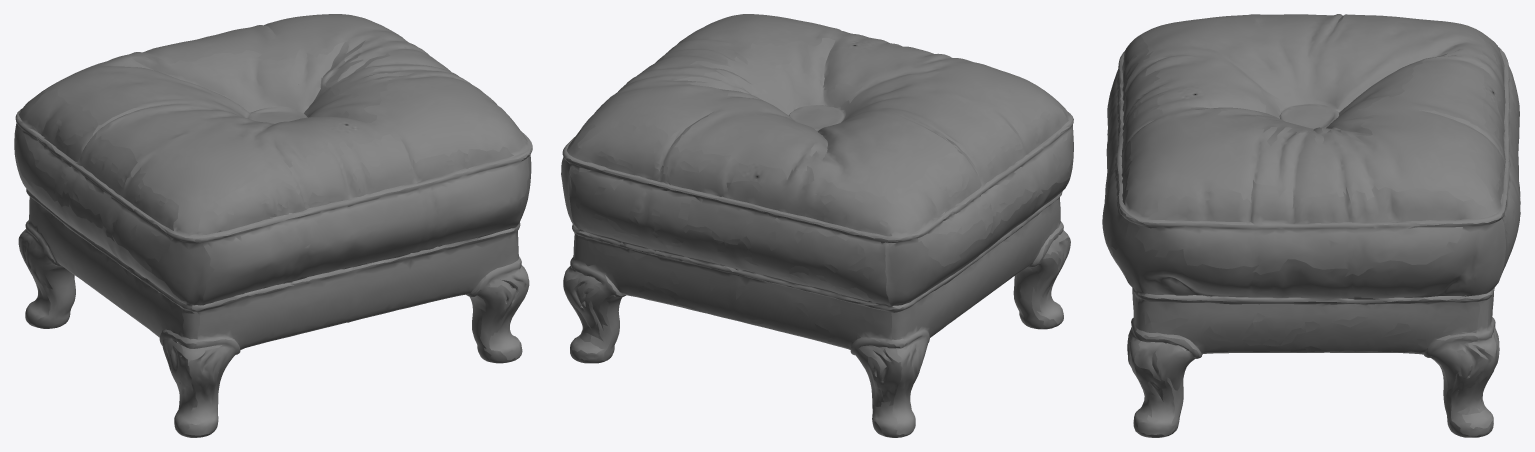
Rendered from completion_ottoman_0.glb.
The picture shows the model from 3 angles, left to right: view 1: azimuth 30°, elevation 25°; view 2: azimuth 150°, elevation 25°; view 3: azimuth 270°, elevation 25°; orthographic projection. The views are drawn at different scales.
Parts seen in each view (by area): view 1: geometry_0; view 2: geometry_0; view 3: geometry_0.
Boxes of the visible parts, x1=… form: geometry_0: x1=14, y1=14, x2=532, y2=437; geometry_0: x1=561, y1=14, x2=1073, y2=437; geometry_0: x1=1102, y1=14, x2=1520, y2=437.
Bounding box in the file's own units: 1 × 0.626 × 0.8753.
1 material, 1 textured.
